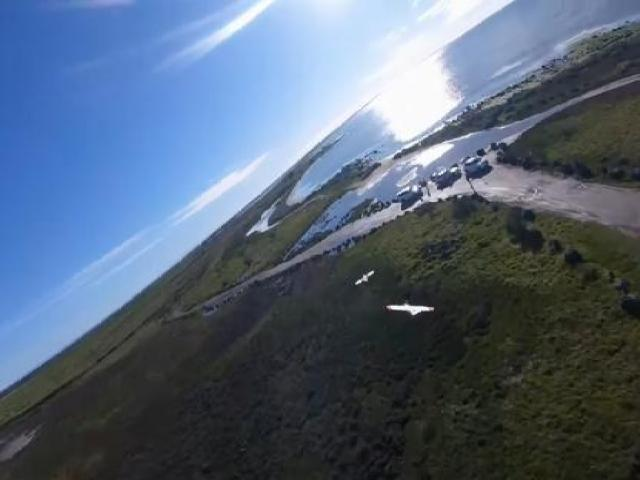uav: (386, 300, 434, 320), (355, 269, 374, 287)
